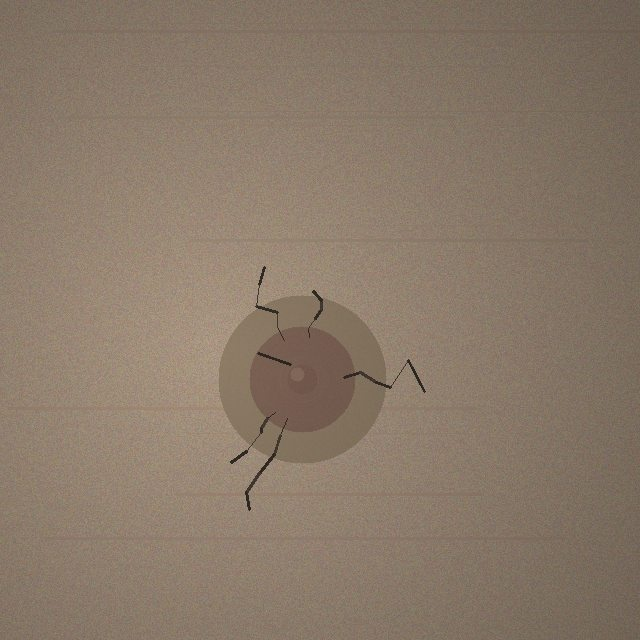crack: (218, 295, 386, 463)
